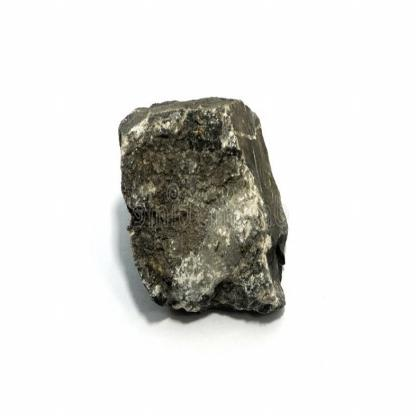Sedimentary_Limestone: (108, 86, 289, 332)
